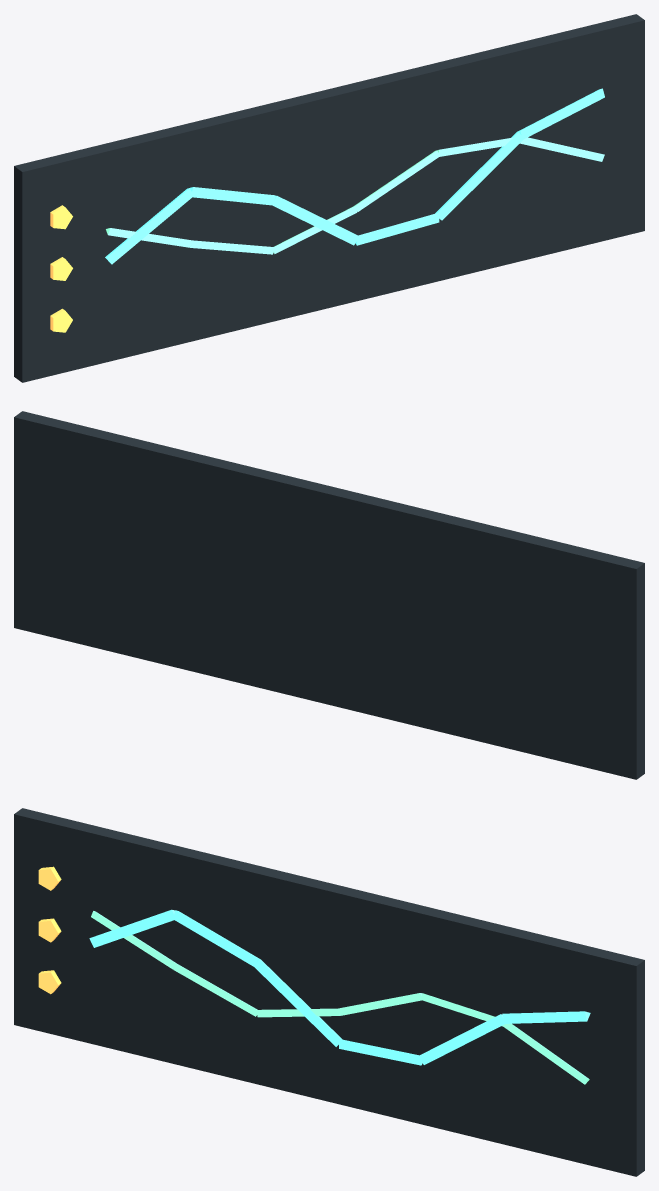
File: neon-wave.lod2.glb
3 views of the same model, one above another, from view 1: azimuth 30°, elevation 25°; view 2: azimuth 150°, elevation 25°; view 3: azimuth 330°, elevation 25° (orthographic).
Parts seen in each view (by area): view 1: structure; view 2: structure; view 3: structure.
Boxes of the visible parts, box(x1,y1,x2,y2) form: structure: box(14, 14, 644, 382); structure: box(14, 411, 644, 779); structure: box(14, 808, 644, 1176).
Size of the model in its own units: 3.4 by 1.1 by 0.1249.
